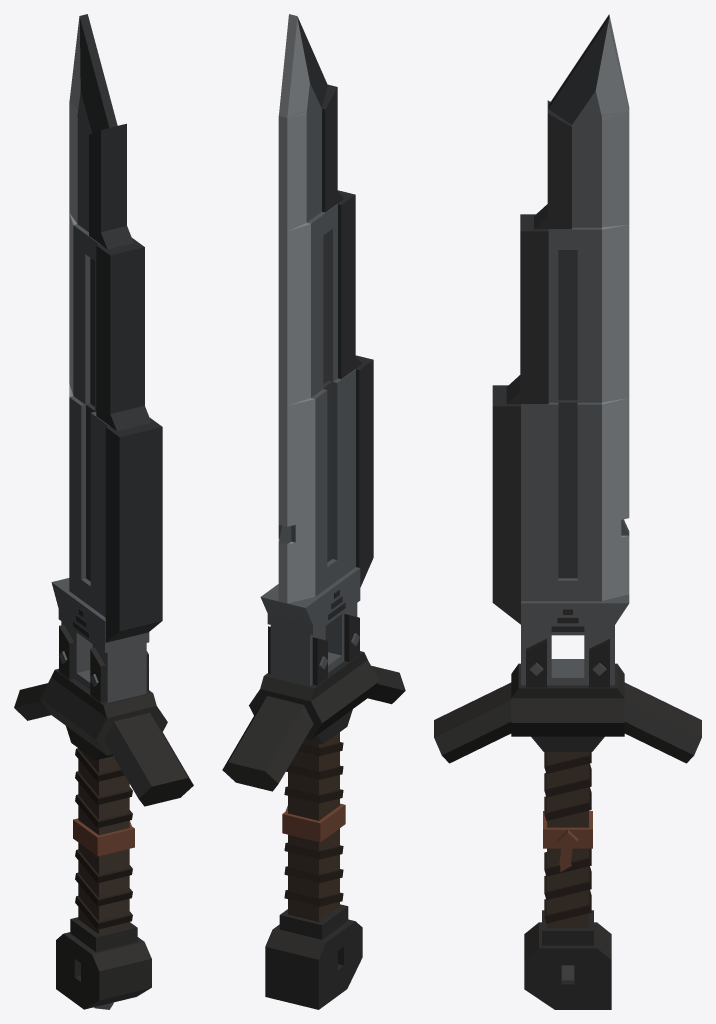
Rendered from Gravestair.obj.
3 views of the same model, side by side, from view 1: azimuth 30°, elevation 25°; view 2: azimuth 150°, elevation 25°; view 3: azimuth 270°, elevation 25° (orthographic).
Visible parts, largest first — view 1: Tier1Rib, Tier2Rib, Handle, Tier3Rib, GuardArmSpineCore, Tier1FlatFwd, Tier1FlatSpine, Tier2FlatFwd, RailSpine, PommelPostSpine, Capstone, GuardHubCheekUpperNX (+33 smaller); view 2: Handle, Tier1FlatSpine, Tier2BevelNX, EdgeLandHigh, PommelPostFwd, Tier1Rib, Tier1BevelHighNX, GuardArmFwdCore, Tier2Rib, Tier1FlatFwd, RailFwd, Tier2FlatFwd (+34 smaller); view 3: Tier1FlatSpine, Tier1Rib, Tier2Rib, Tier1FlatFwd, Tier2BevelPX, Handle, Tier2FlatFwd, Tier1Fuller, Tier1BevelHighPX, FacetEdgePX, Tier3Flat, Tier2Fuller (+28 smaller).
Boxes of the visible parts, x1,y1,x2,y2 form: Tier1Rib: (105, 418, 162, 631); Tier2Rib: (96, 238, 144, 425); Handle: (78, 748, 129, 934); Tier3Rib: (89, 135, 126, 244); GuardArmSpineCore: (114, 713, 187, 806); Tier1FlatFwd: (69, 396, 85, 599); Tier1FlatSpine: (90, 412, 109, 617); Tier2FlatFwd: (73, 224, 90, 404); RailSpine: (92, 643, 146, 702); PommelPostSpine: (81, 958, 151, 1000); Capstone: (58, 585, 149, 652); GuardHubCheekUpperNX: (40, 677, 106, 739); Handle: (288, 732, 339, 921); Tier1FlatSpine: (332, 369, 355, 580); Tier2BevelNX: (287, 223, 310, 405); EdgeLandHigh: (278, 116, 287, 526); PommelPostFwd: (265, 946, 337, 1009); Tier1Rib: (355, 355, 373, 567); Tier1BevelHighNX: (287, 398, 315, 526); GuardArmFwdCore: (228, 696, 303, 791); Tier2Rib: (337, 190, 355, 379); Tier1FlatFwd: (311, 389, 327, 596); RailFwd: (270, 625, 325, 685); Tier2FlatFwd: (307, 214, 323, 397); Tier1FlatSpine: (521, 402, 558, 601); Tier1Rib: (492, 385, 520, 602); Tier2Rib: (520, 214, 548, 404); Tier1FlatFwd: (577, 402, 601, 601); Tier2BevelPX: (602, 225, 629, 402); Handle: (547, 752, 588, 928); Tier2FlatFwd: (577, 227, 601, 402); Tier1Fuller: (558, 400, 577, 578); Tier1BevelHighPX: (602, 398, 629, 524); FacetEdgePX: (602, 111, 629, 227); Tier3Flat: (572, 125, 601, 227); Tier2Fuller: (558, 250, 577, 400).
Size of the model in its own units: 0.52 by 6.74 by 1.65.
